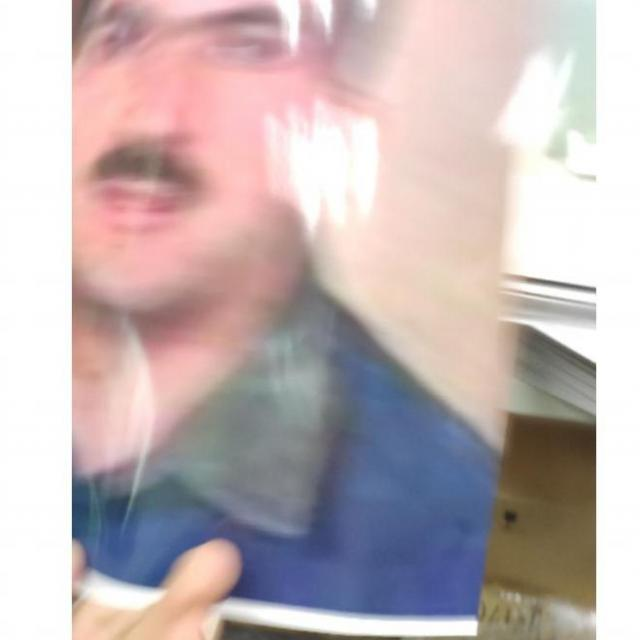photo: (71, 0, 529, 640)
